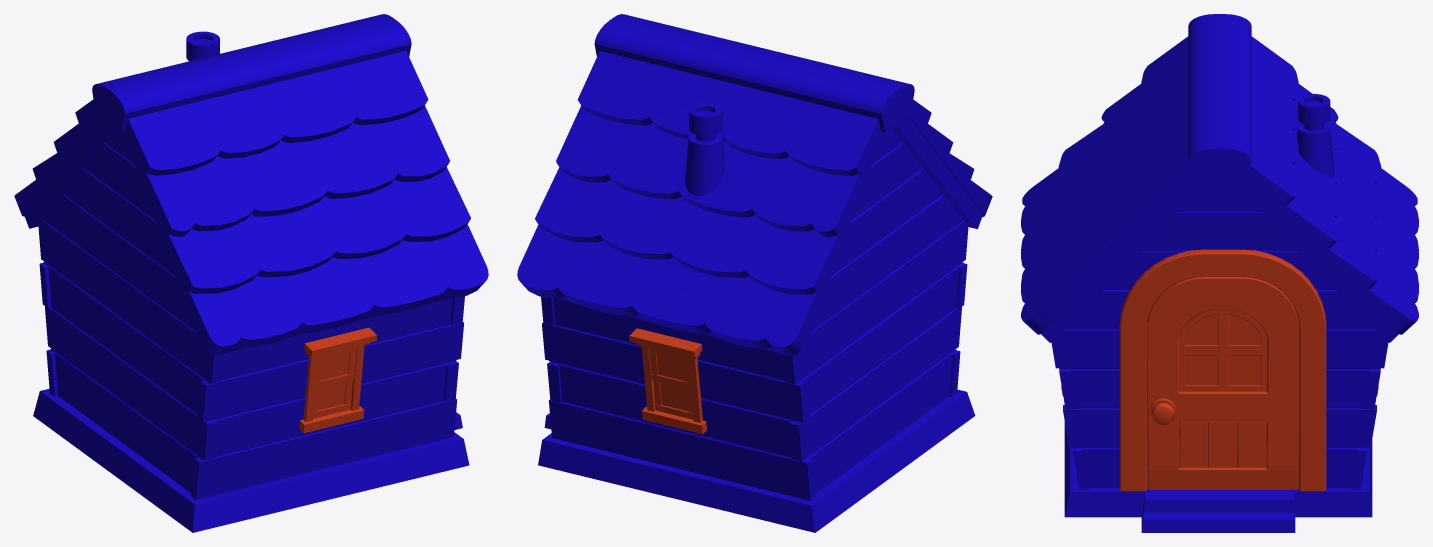
File: house.obj
3 views of the same model, side by side, from view 1: azimuth 30°, elevation 25°; view 2: azimuth 150°, elevation 25°; view 3: azimuth 270°, elevation 25° (orthographic). The views are drawn at different scales.
Parts seen in each view (by area): view 1: House; view 2: House; view 3: House.
Boxes of the visible parts, x1,y1,x2,y2 form: House: (14, 14, 488, 532); House: (517, 14, 992, 532); House: (1021, 14, 1418, 532).
Size of the model in its own units: 1.86 by 2.19 by 2.12.
